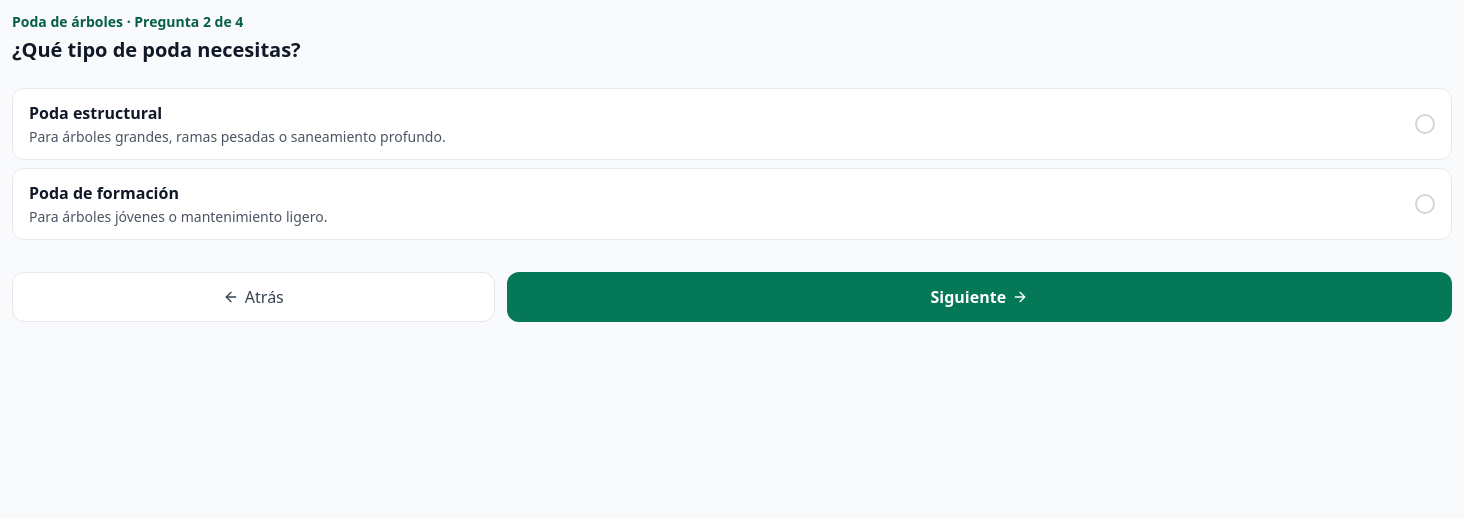
elemento fantasma (P-01) › «Añadir otro» + «Atrás» lo descarta: la revisión y el envío llevan solo el árbol declarado
The width and height of the screenshot is (1464, 519).
Earlier steps of the test are not shown.
Later steps or results of the test are not shown.
Click the radio button that starts with "Poda estructural" at [96, 113], box [12,88,1452,160]
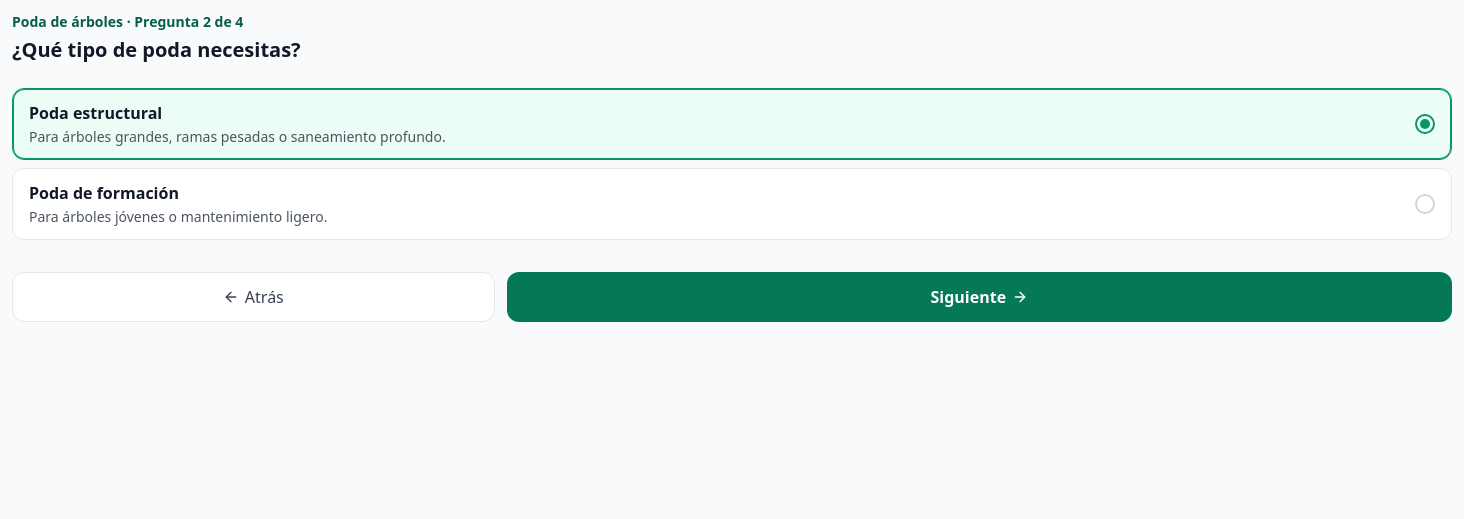
Click the button "Siguiente" at [979, 297], box [507,272,1452,322]
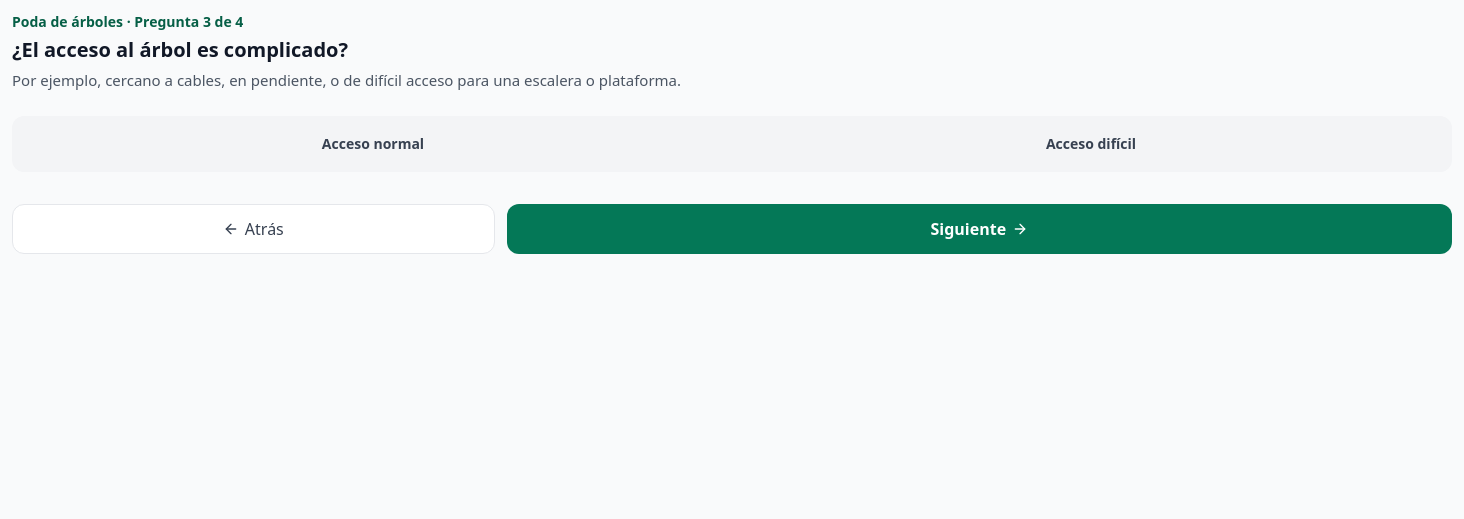
Click the radio button labelled "Acceso normal" at [373, 144], box [16,120,730,168]
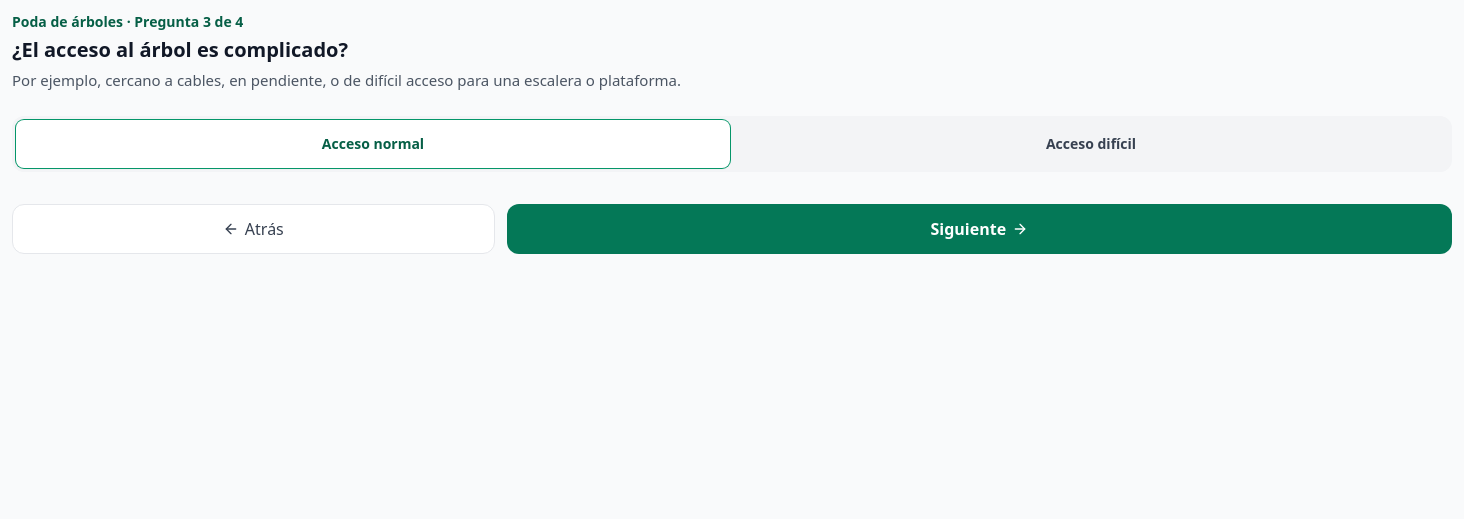
Click the button "Siguiente" at [979, 229], box [507,204,1452,254]
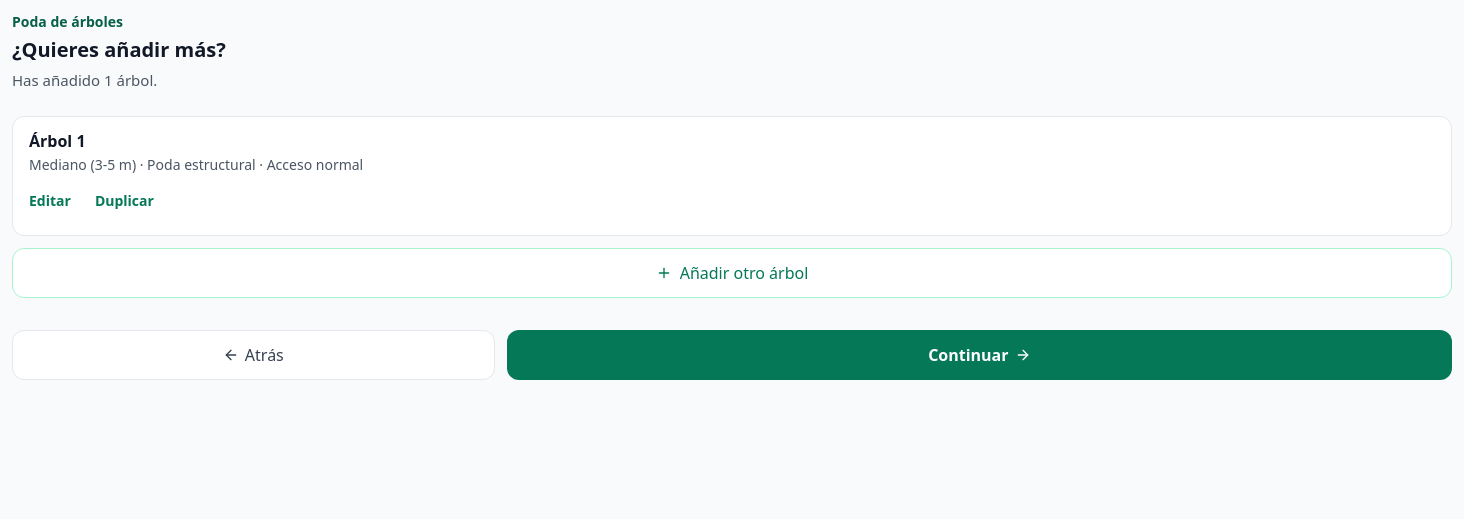
Check: the heading reads "¿Quieres añadir más?", box [12,36,226,63]
Click the button "Añadir otro árbol" at [732, 273], box [12,248,1452,298]
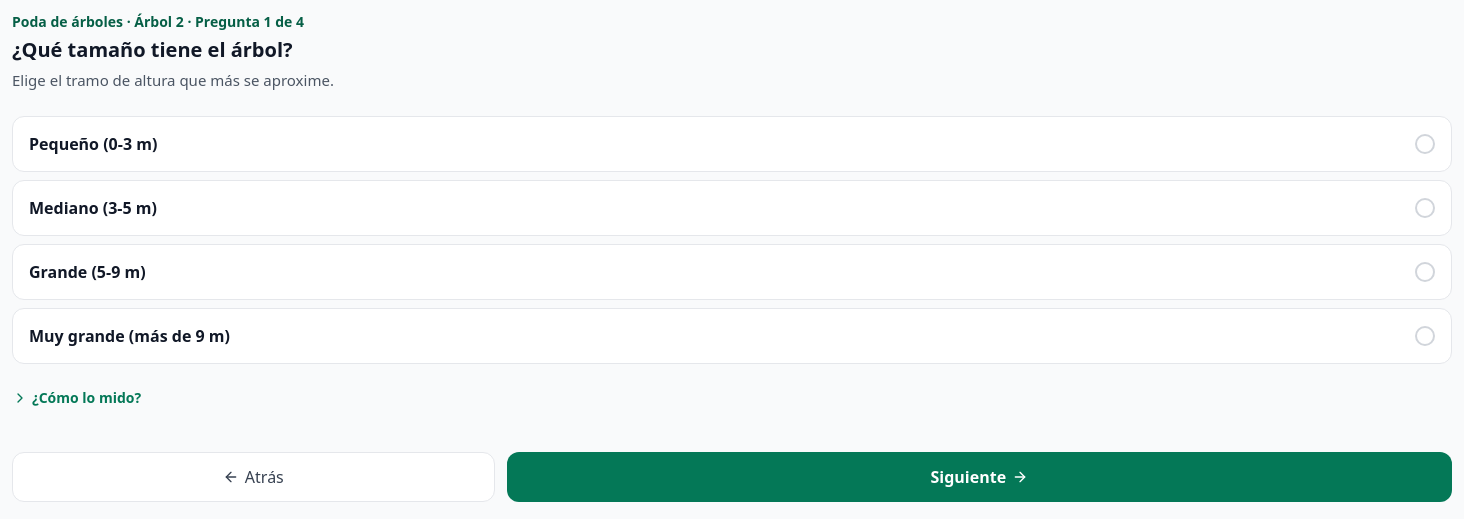
Check: the text "Poda de árboles · Árbol 2 · Pregunta 1 de 4" is shown, box [12,12,304,31]
Click the button "Atrás" at [253, 477], box [12,452,495,502]
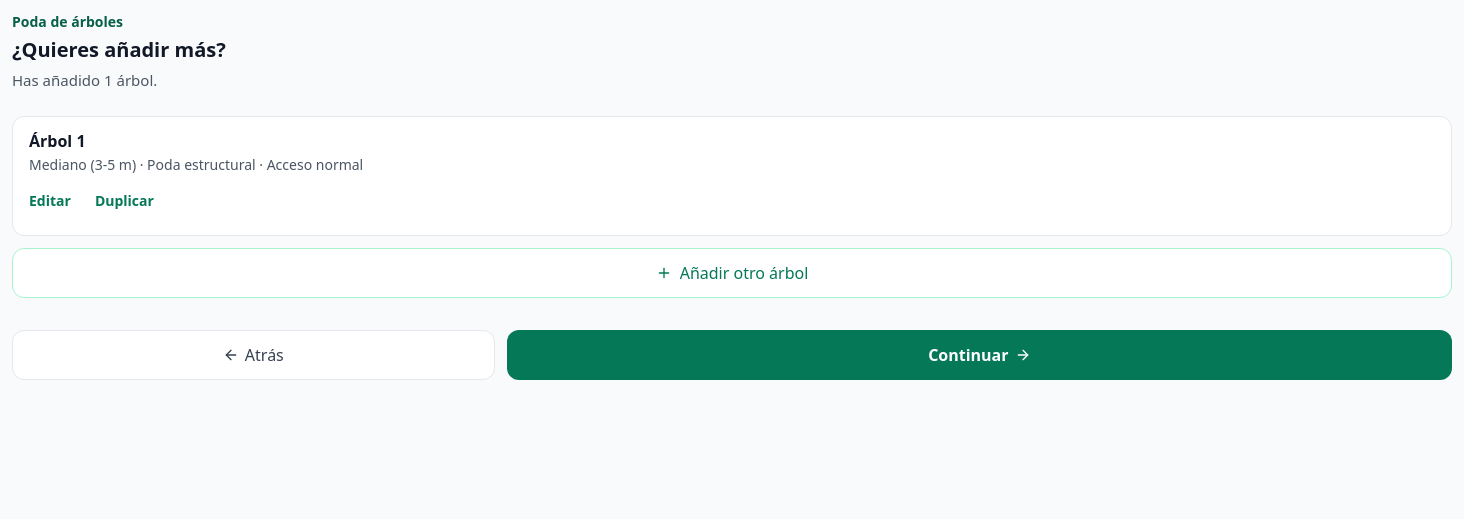
Check: the heading reads "¿Quieres añadir más?", box [12,36,226,63]
Check: the text "Has añadido 1 árbol." is shown, box [12,70,157,90]
